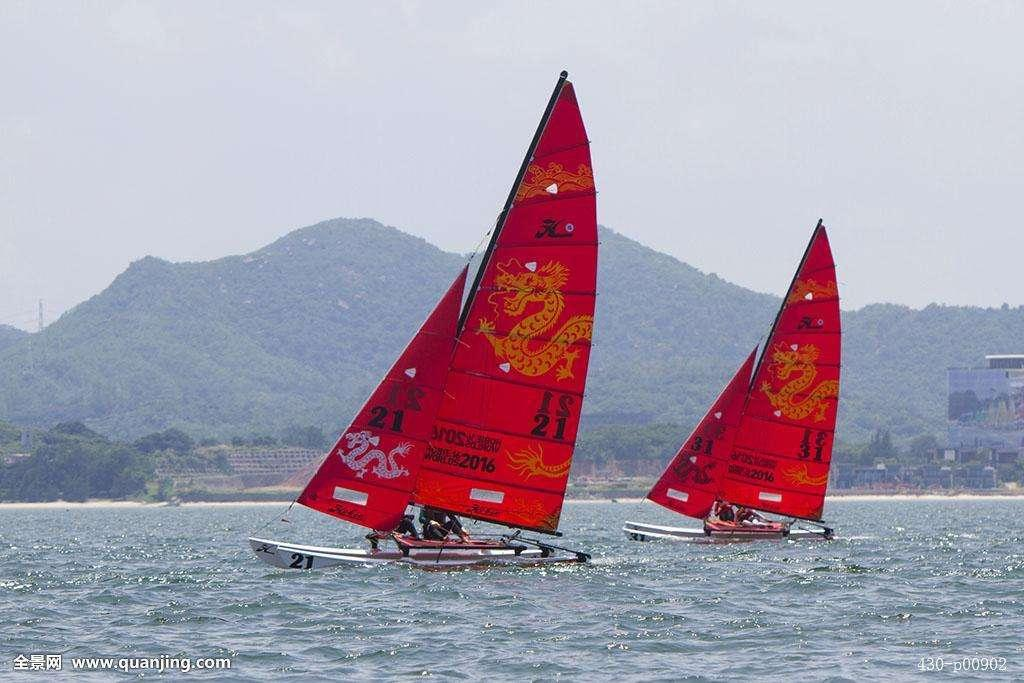fanchuan: (248, 61, 607, 575), (622, 213, 848, 547)
